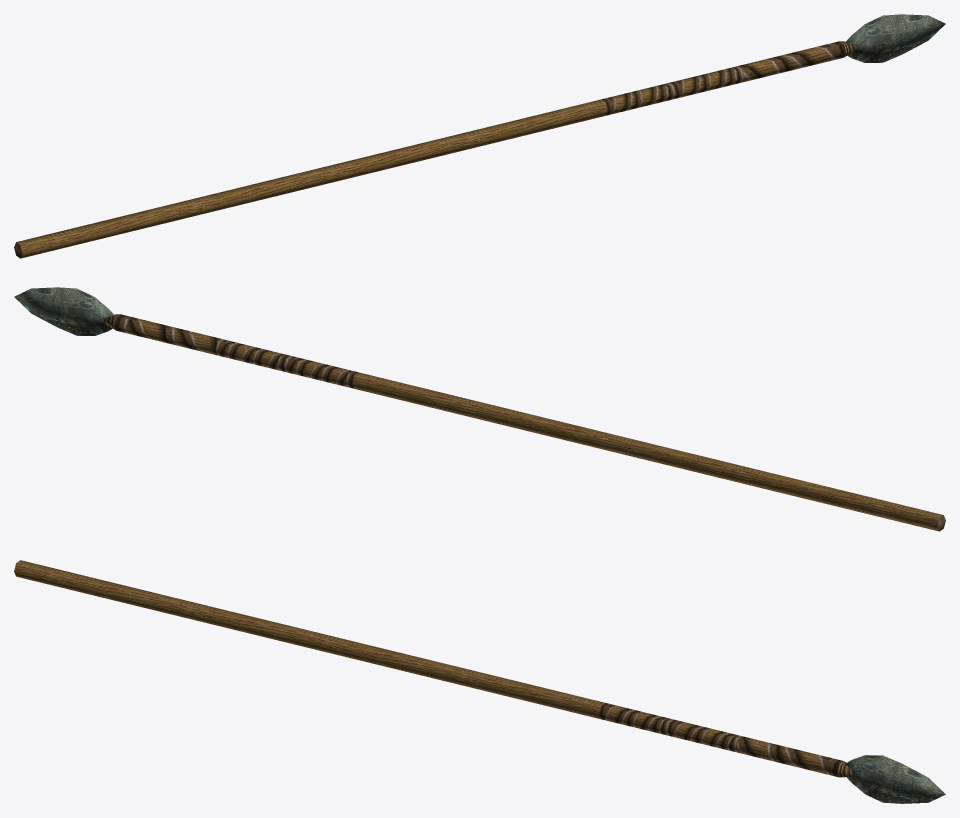
3 views of the same model, one above another, from view 1: azimuth 30°, elevation 25°; view 2: azimuth 150°, elevation 25°; view 3: azimuth 330°, elevation 25° (orthographic).
Parts seen in each view (by area): view 1: it10106; view 2: it10106; view 3: it10106.
Boxes of the visible parts, x1,y1,x2,y2 form: it10106: (14,14,945,258); it10106: (14,287,945,531); it10106: (14,560,945,803).
Bounding box in the file's own units: 6.26 × 0.3052 × 0.1001.
Materials: 4 (4 with a texture image).
